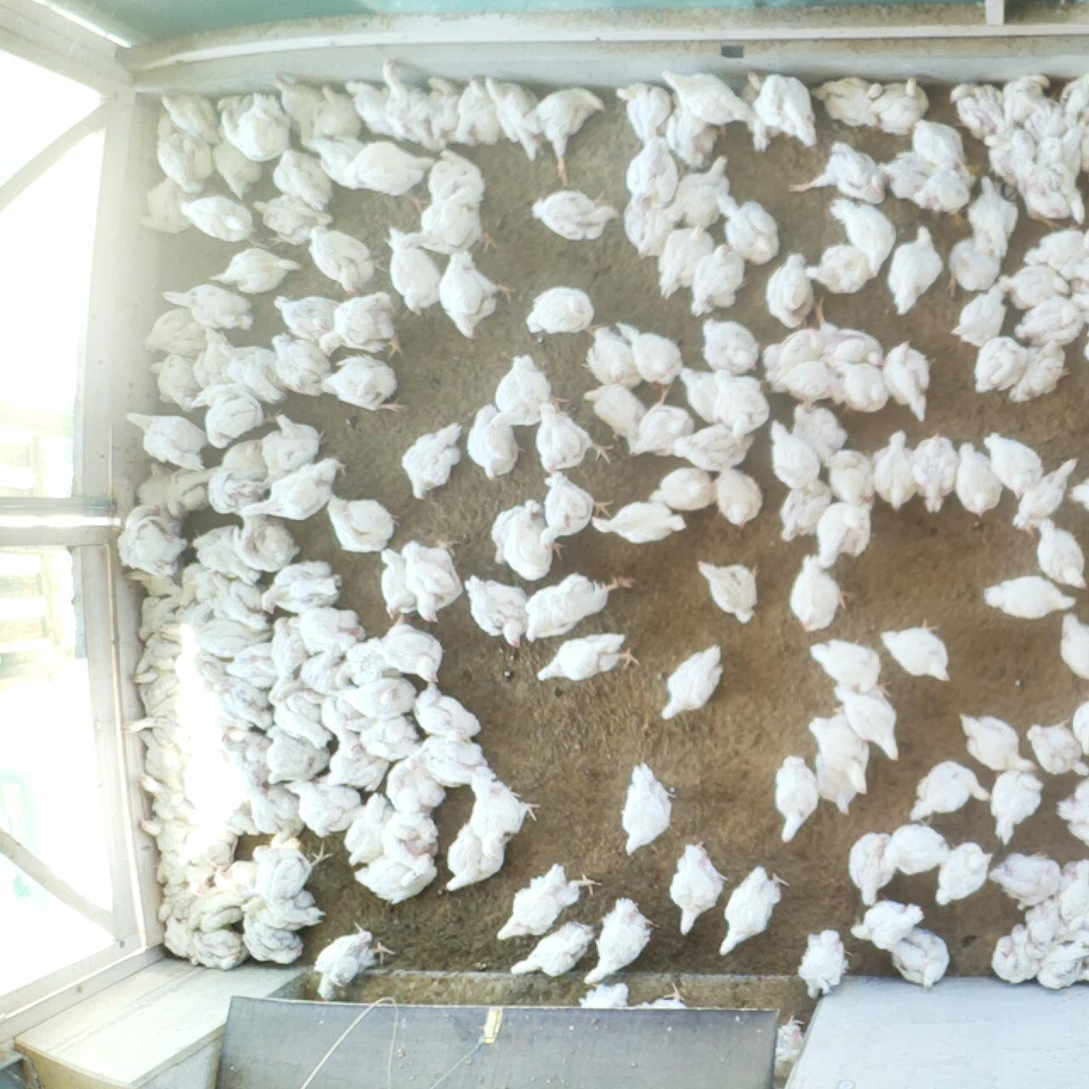chicken: (531, 85, 606, 185), (527, 569, 637, 637), (785, 136, 888, 204), (299, 221, 389, 296), (436, 254, 517, 337), (499, 864, 592, 936), (378, 63, 451, 153), (716, 865, 785, 958), (471, 770, 538, 865), (313, 931, 403, 1001), (474, 71, 542, 163), (247, 459, 344, 522), (314, 294, 409, 356), (665, 841, 727, 936), (528, 402, 613, 471), (583, 898, 648, 987), (492, 357, 567, 434), (397, 202, 499, 258), (826, 197, 900, 274), (393, 534, 460, 619), (885, 229, 948, 318), (494, 497, 560, 580), (617, 760, 674, 856), (129, 409, 214, 473), (811, 634, 897, 697), (346, 142, 441, 199), (982, 424, 1050, 503), (115, 501, 183, 579), (830, 687, 904, 758), (806, 714, 870, 796), (879, 620, 957, 687), (1009, 454, 1075, 532), (539, 632, 636, 685), (399, 419, 464, 498), (538, 473, 604, 550), (206, 441, 274, 515), (659, 68, 751, 122), (961, 710, 1036, 776), (813, 297, 882, 368), (614, 320, 682, 391), (875, 340, 936, 419), (158, 284, 260, 331), (318, 356, 402, 413), (510, 920, 591, 979), (1011, 292, 1089, 353), (386, 225, 438, 316), (770, 756, 824, 843), (265, 653, 357, 704), (199, 664, 272, 728), (324, 491, 397, 554), (1020, 157, 1086, 226), (805, 492, 869, 563), (756, 71, 815, 148), (660, 647, 723, 719), (978, 574, 1074, 621), (462, 577, 529, 644), (995, 850, 1071, 909), (273, 74, 331, 151), (266, 292, 348, 346), (909, 762, 988, 818), (527, 191, 619, 239), (256, 564, 342, 615), (698, 557, 762, 625), (250, 191, 335, 242), (759, 322, 831, 382), (416, 681, 484, 744), (212, 242, 295, 293), (218, 97, 290, 155), (248, 846, 328, 898), (261, 415, 324, 481), (464, 407, 521, 479), (256, 728, 332, 782), (375, 619, 439, 683), (885, 925, 951, 987), (662, 225, 716, 300), (191, 526, 262, 583), (270, 692, 334, 755), (584, 388, 660, 441), (273, 333, 333, 400), (236, 893, 340, 931), (443, 821, 501, 889), (351, 857, 442, 900), (717, 197, 779, 260), (218, 336, 282, 397), (935, 841, 991, 910), (1035, 516, 1087, 590), (776, 475, 830, 546), (793, 560, 846, 632), (767, 422, 822, 491), (232, 520, 301, 575), (716, 370, 772, 437), (875, 431, 923, 509), (950, 442, 1002, 514), (284, 615, 373, 657), (133, 467, 209, 516), (851, 898, 924, 949), (155, 134, 216, 195), (949, 82, 1009, 144), (419, 732, 489, 785), (387, 753, 444, 818), (678, 157, 728, 231), (199, 387, 265, 443), (345, 792, 392, 870), (328, 729, 388, 790), (422, 145, 484, 204), (371, 541, 416, 622), (590, 501, 681, 541), (140, 308, 214, 357), (992, 767, 1039, 844), (208, 577, 275, 631), (767, 254, 817, 326), (1029, 718, 1088, 779), (221, 730, 282, 789), (584, 324, 638, 390), (1002, 265, 1070, 317), (1017, 339, 1073, 402), (297, 781, 360, 837), (791, 403, 845, 468), (812, 75, 878, 128), (698, 238, 744, 314), (808, 751, 863, 814), (909, 121, 973, 175), (958, 278, 1008, 347), (220, 643, 285, 696), (1023, 229, 1089, 281), (701, 321, 759, 380), (668, 105, 719, 172), (672, 425, 755, 466), (630, 405, 693, 459), (798, 931, 847, 1000), (189, 619, 280, 656), (946, 240, 1004, 298), (968, 178, 1016, 248), (619, 83, 674, 144), (869, 81, 932, 134), (972, 335, 1030, 392), (148, 353, 208, 408), (625, 201, 681, 259), (212, 129, 261, 195), (275, 156, 337, 208), (646, 470, 716, 516), (679, 362, 728, 427), (452, 77, 501, 142), (522, 288, 596, 331), (130, 664, 200, 709), (239, 915, 305, 962), (339, 78, 394, 134), (987, 123, 1035, 187), (628, 139, 673, 207), (740, 71, 778, 151), (210, 863, 273, 911), (875, 150, 934, 201), (1036, 125, 1089, 181), (715, 467, 762, 530), (140, 728, 187, 791), (919, 435, 955, 516), (161, 93, 223, 140), (178, 567, 229, 624), (889, 825, 947, 875), (140, 773, 196, 824), (190, 925, 247, 975), (812, 245, 871, 293), (993, 922, 1036, 987), (311, 141, 373, 186), (852, 834, 892, 903), (312, 83, 357, 144), (914, 165, 972, 212), (359, 717, 419, 762), (385, 809, 434, 864), (140, 812, 194, 861), (269, 613, 311, 676), (827, 450, 875, 504), (157, 849, 212, 896), (139, 628, 184, 685), (1004, 69, 1048, 127), (250, 789, 303, 837), (772, 368, 841, 403), (343, 681, 410, 717), (162, 914, 209, 965), (1041, 938, 1086, 990), (130, 705, 196, 740), (129, 570, 189, 607), (422, 80, 459, 139), (778, 1021, 811, 1087), (197, 815, 241, 864), (1060, 855, 1089, 928), (840, 364, 883, 412), (199, 331, 233, 390), (1063, 775, 1089, 852), (1025, 900, 1065, 950), (142, 596, 181, 643), (1058, 71, 1089, 130), (1063, 616, 1089, 681), (624, 989, 699, 1010), (576, 981, 628, 1009), (1071, 704, 1089, 758), (1070, 476, 1089, 510)
